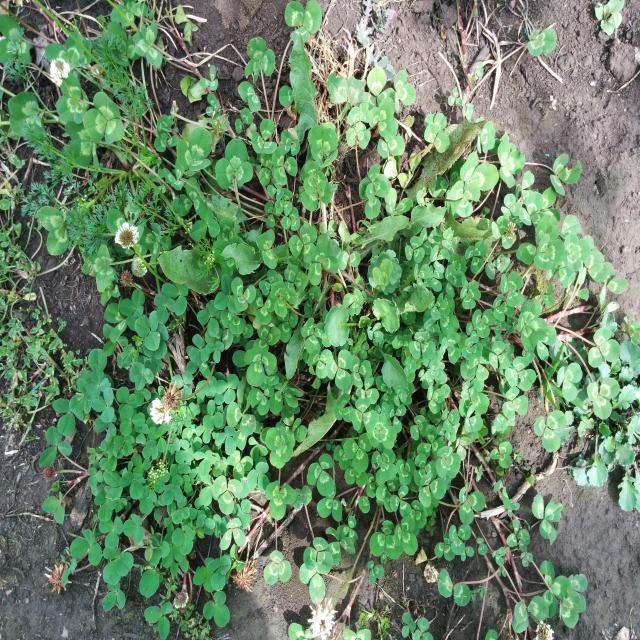Four Leaf Clover: (518, 299, 548, 350)
